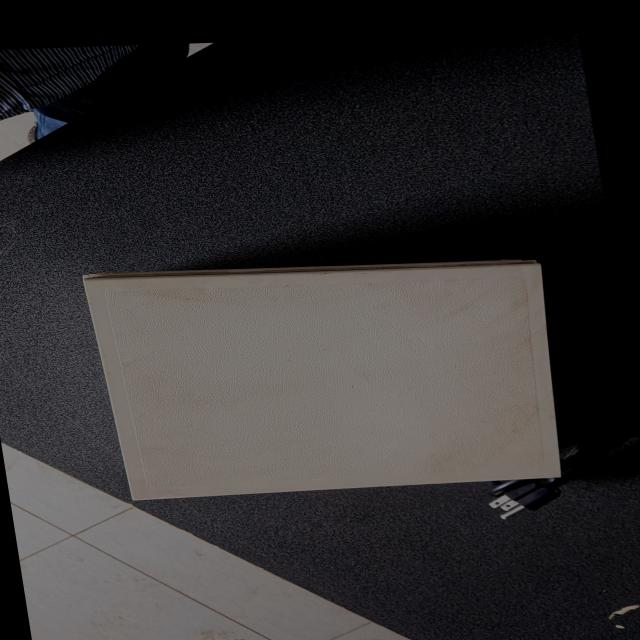Freefall Digital Timer: (71, 250, 622, 520)
